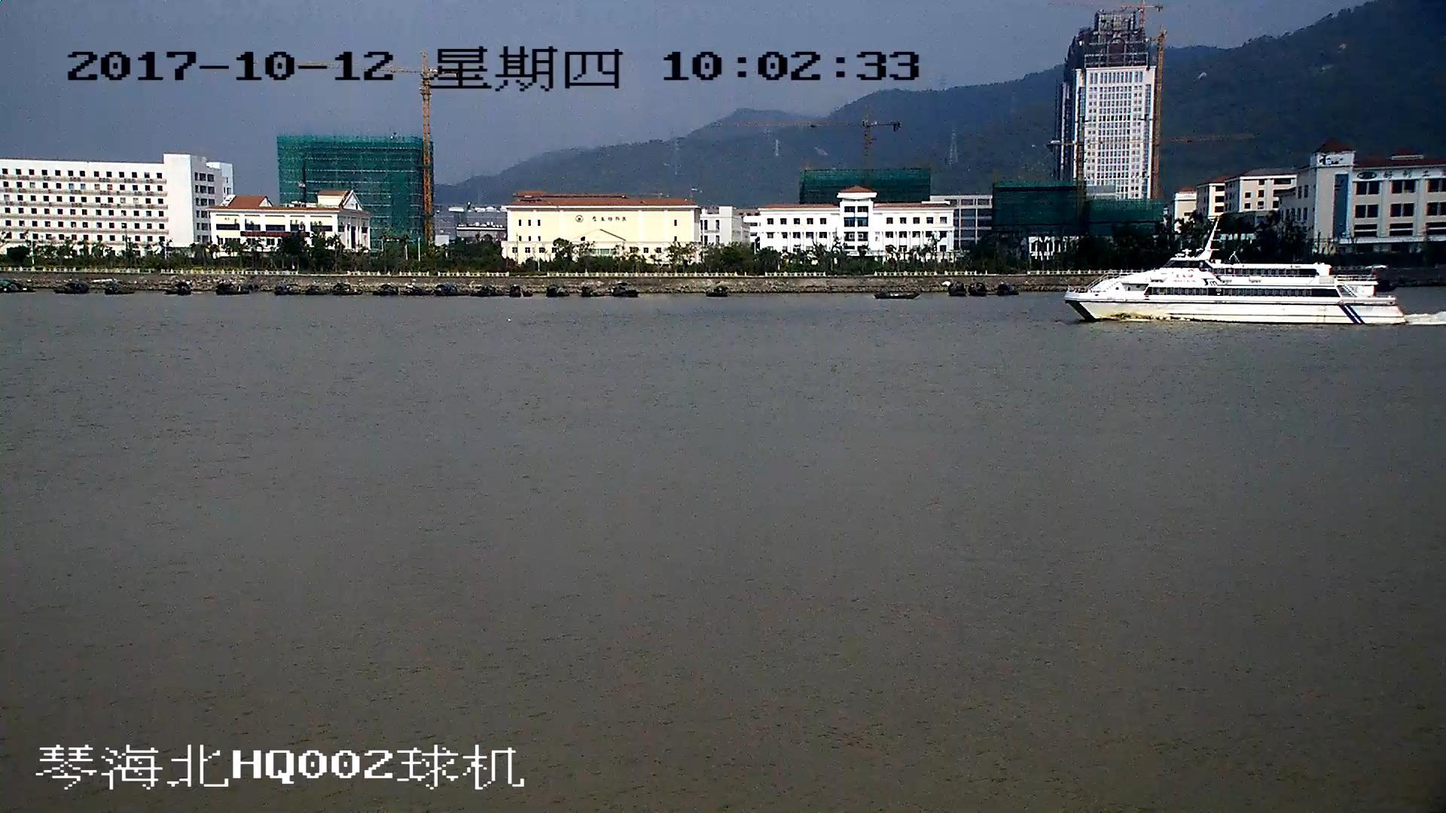passenger ship: (1069, 214, 1402, 322)
